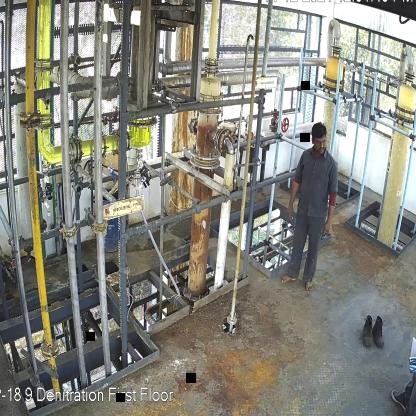no_shoes: (278, 273, 297, 284), (302, 280, 314, 294)
shoes: (360, 314, 376, 348), (373, 316, 386, 347)
